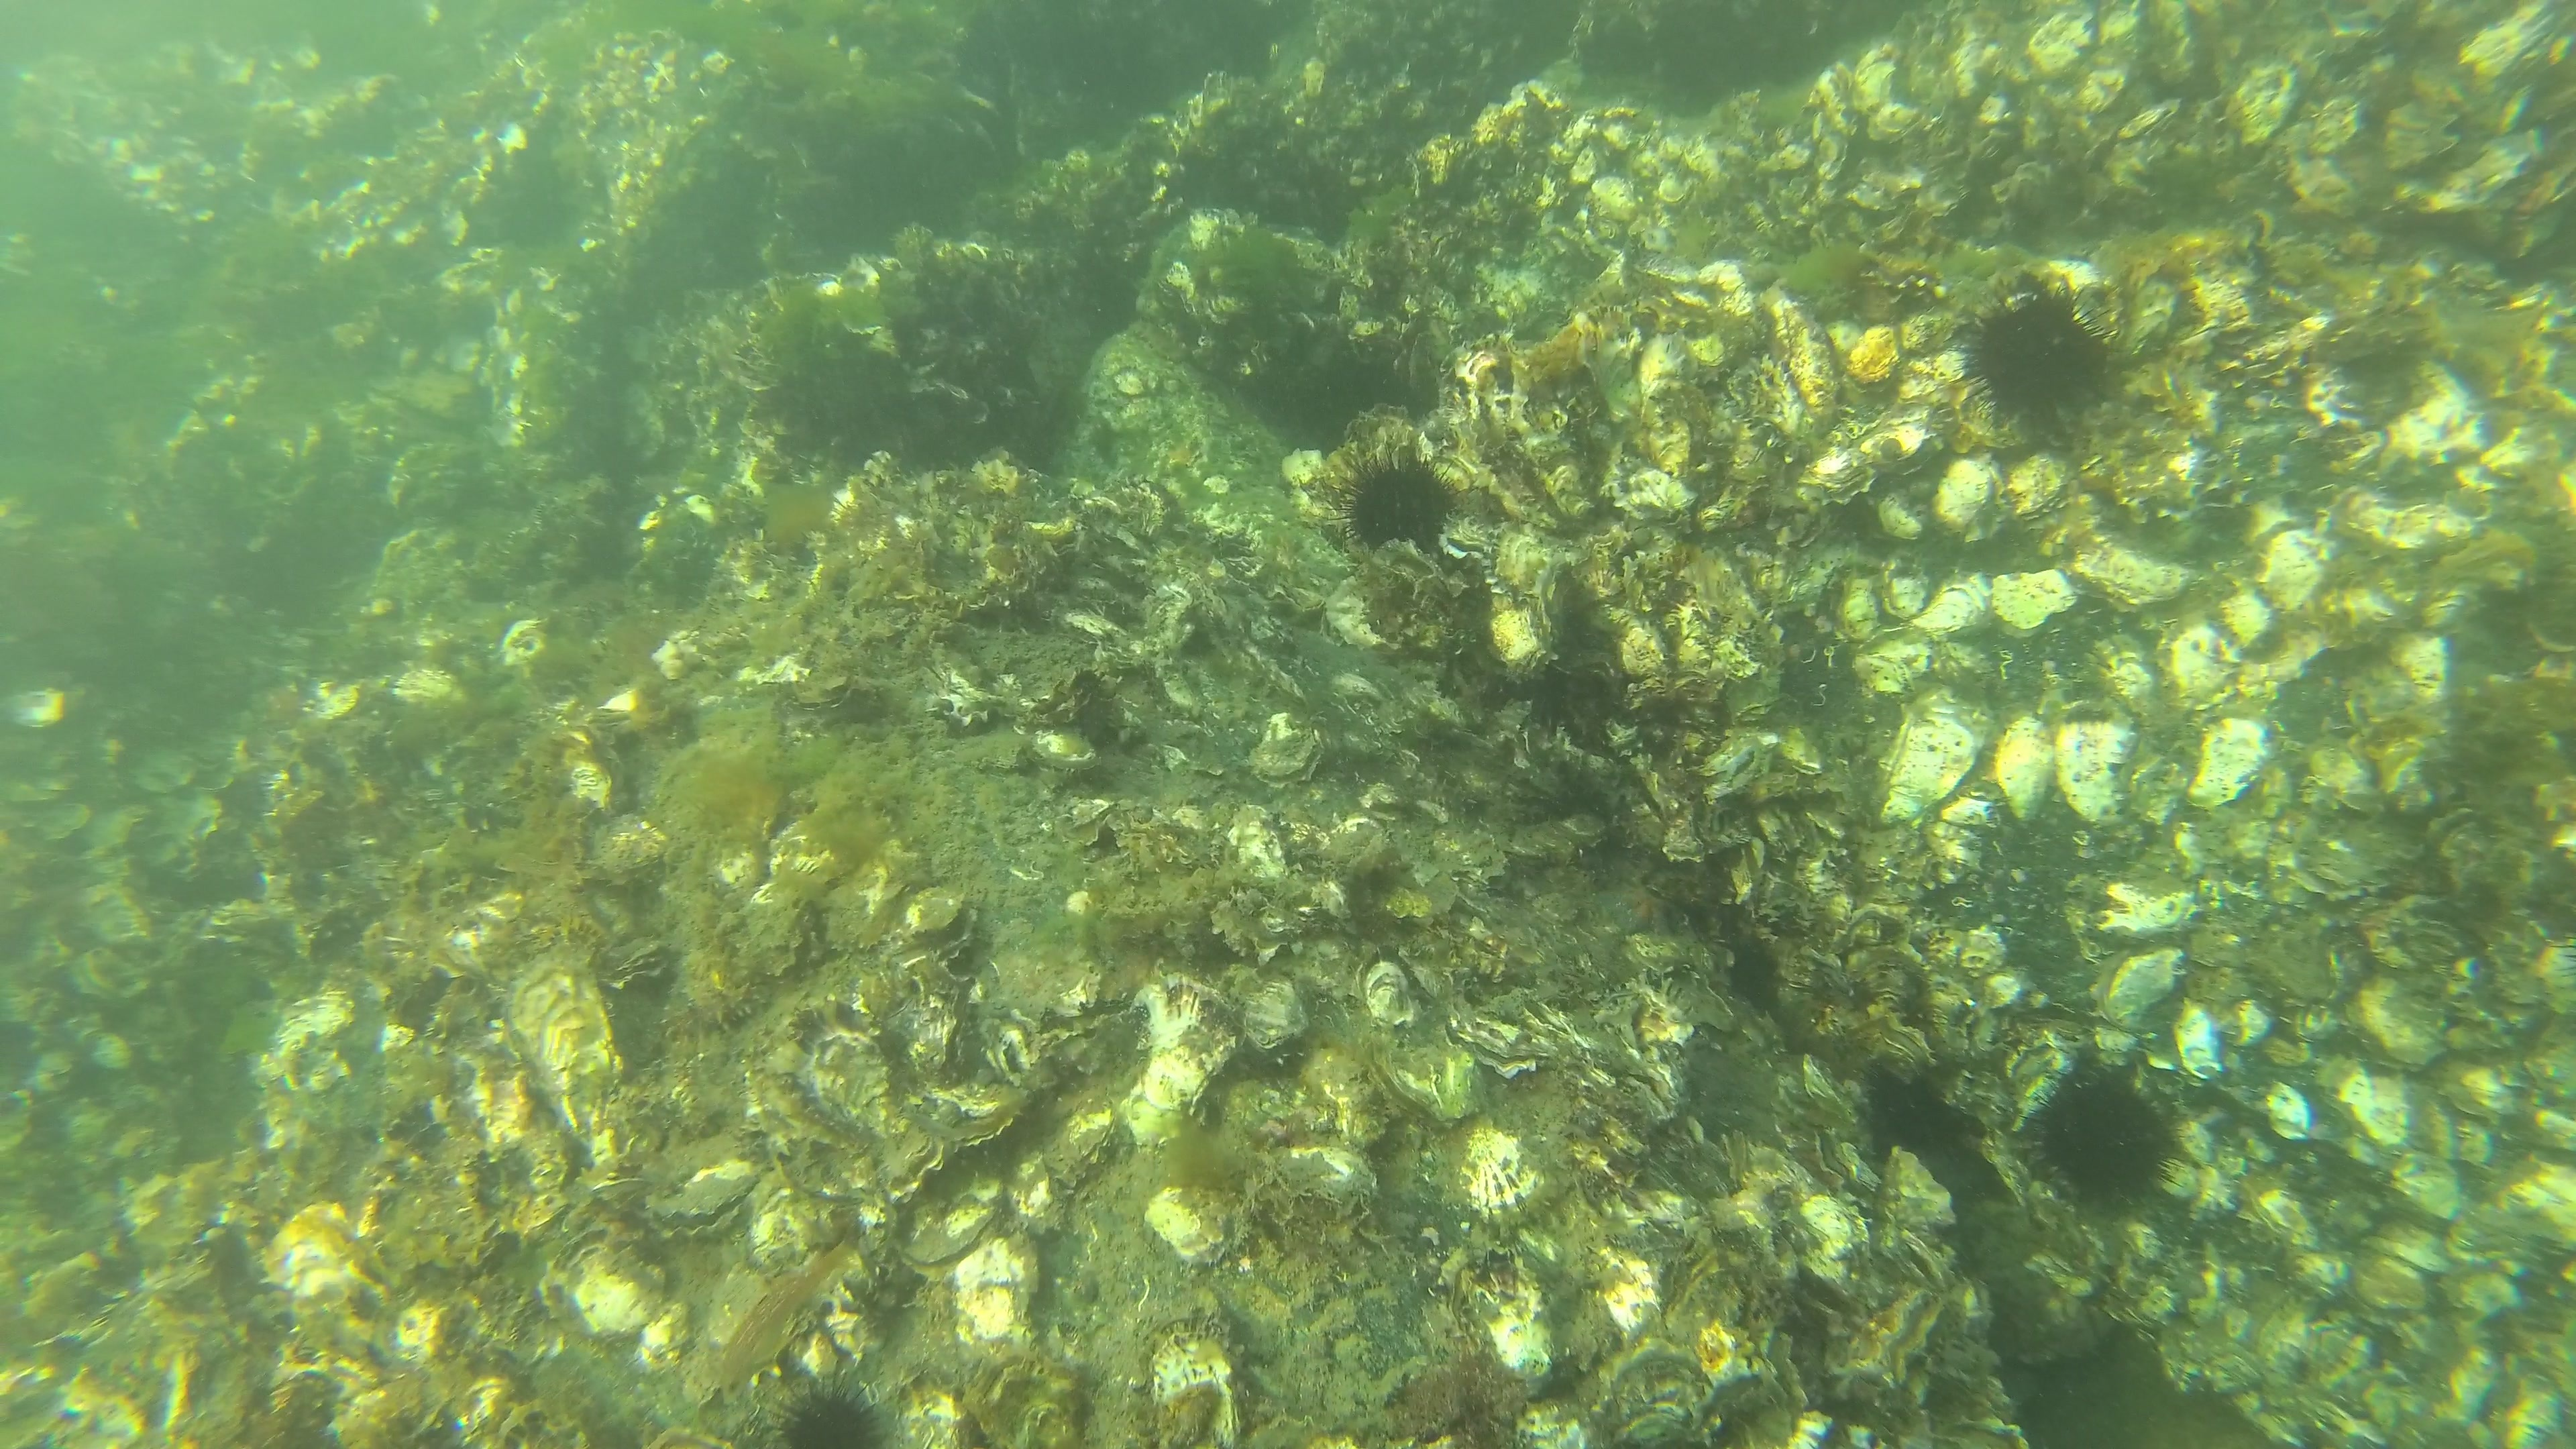echinus: (2024, 1060, 2181, 1210), (1950, 285, 2116, 426), (1332, 449, 1460, 556), (770, 1384, 886, 1449)
starfish: (1596, 883, 1688, 941)
